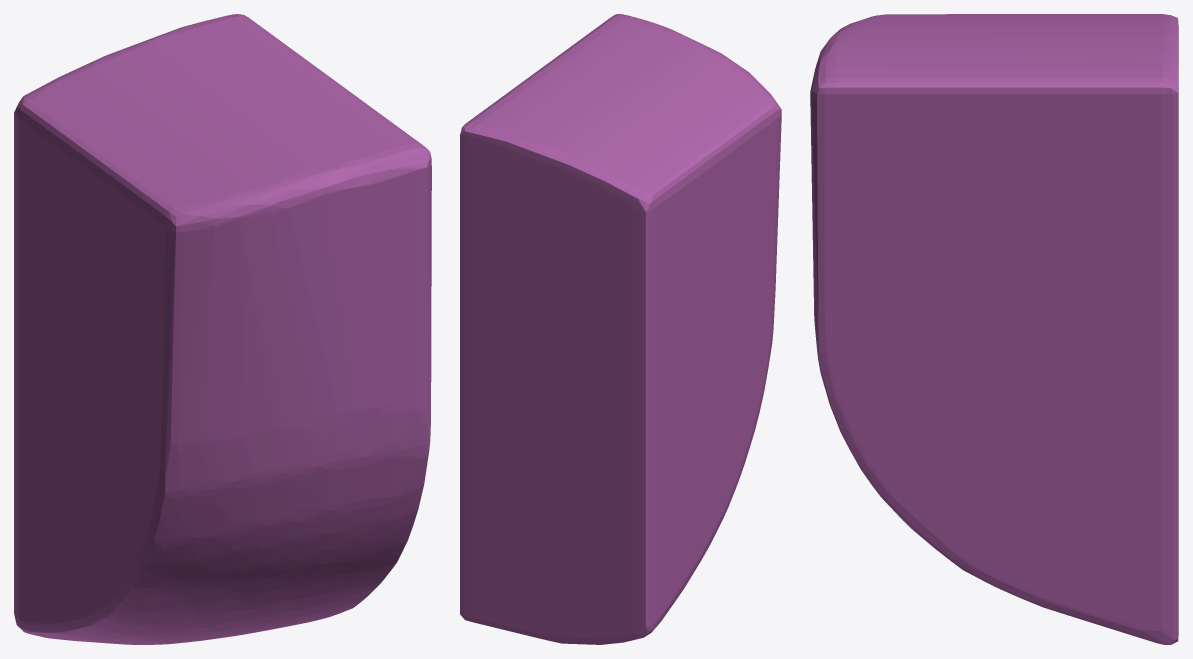
Rendered from right_th_distal_pst_part_7.obj.
3 renders of one model, left to right at view 1: azimuth 30°, elevation 25°; view 2: azimuth 150°, elevation 25°; view 3: azimuth 270°, elevation 25°, orthographic. The views are drawn at different scales.
Size of the model in its own units: 5.54 by 13.73 by 8.15.
